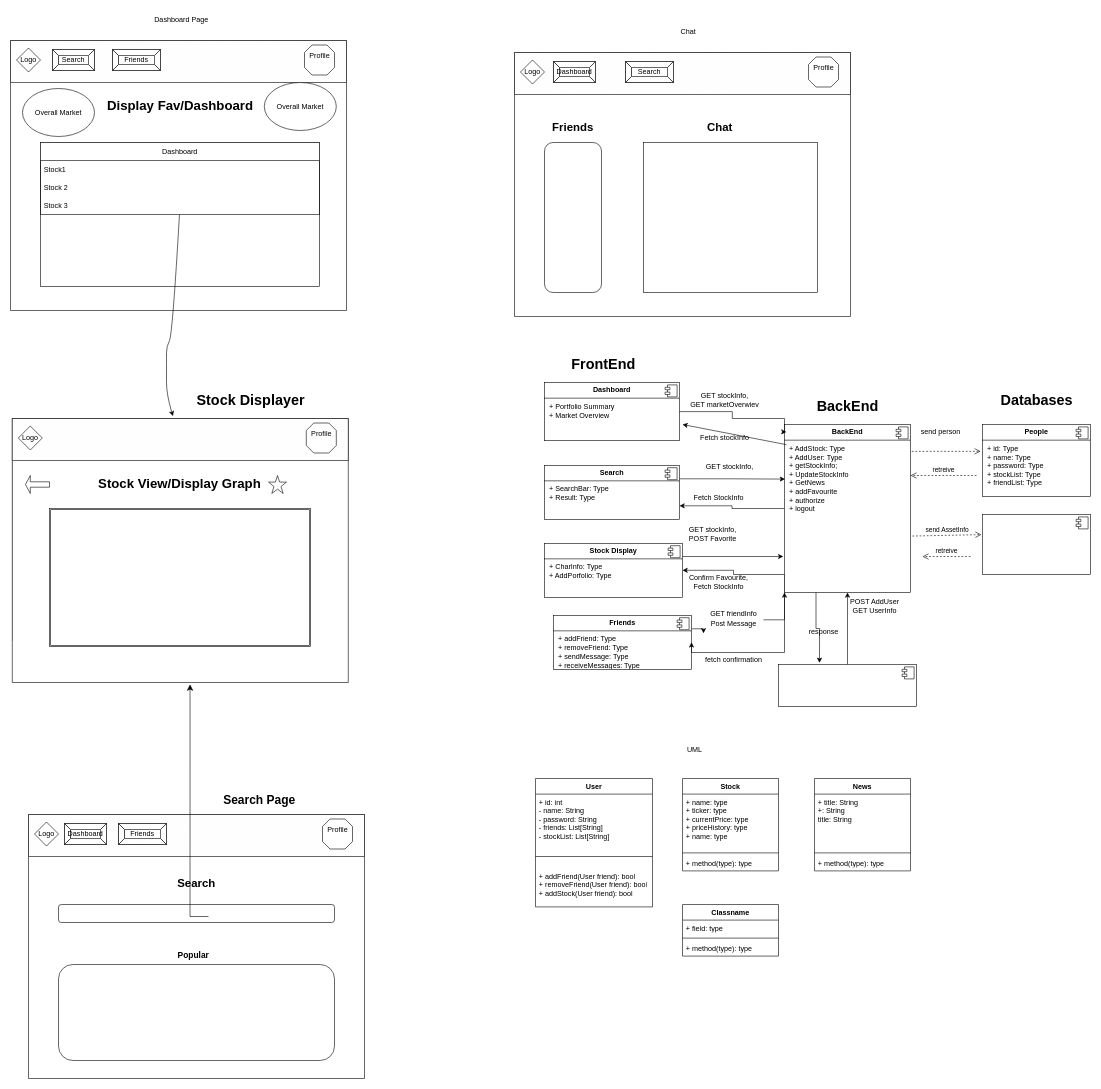
The diagram is 1101 pixels wide and 1089 high, and some of its shapes have lost their labels. The shapes that lost their labels are listed below. From the top down, each one's centre as x and y in pixels, then its label:
At point 1036,544: "AssetsTable + id: Type + userId: Type + StockInfo: Type".
At point 179,577: "Graph".
At point 847,685: "LoginField + loginUser: Type + createUser: Type".
